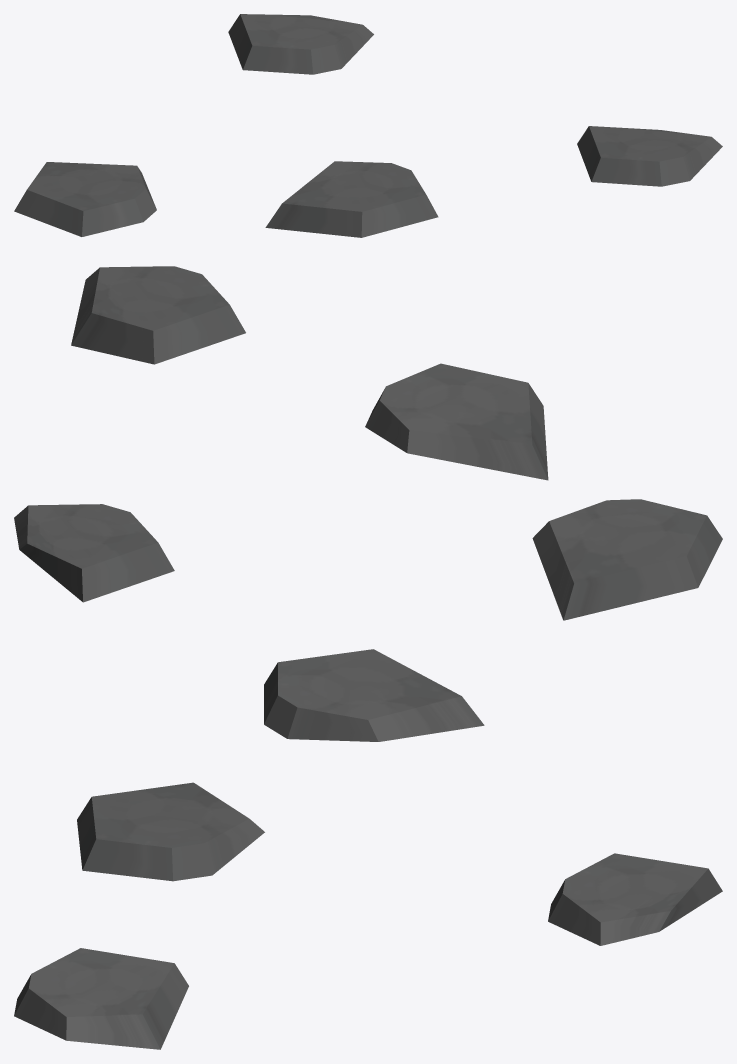
Rendered from Pedras_Pequenas.fbx.
3 views of the same model, one above another, from view 1: azimuth 30°, elevation 25°; view 2: azimuth 150°, elevation 25°; view 3: azimuth 270°, elevation 25° (orthographic). The views are drawn at different scales.
Parts seen in each view (by area): view 1: Rock_Pebbles(02); view 2: Rock_Pebbles(02); view 3: Rock_Pebbles(02).
Part boxes in pixels (x1,y1,x2,y2): Rock_Pebbles(02): (14, 14, 722, 237); Rock_Pebbles(02): (14, 266, 722, 620); Rock_Pebbles(02): (14, 649, 722, 1049).
Bounding box in the file's own units: 79.26 × 4.1 × 62.29.
